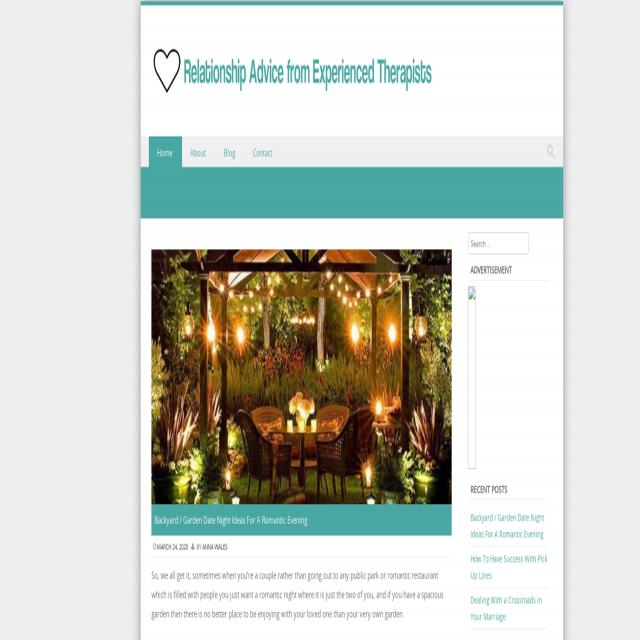button: (151, 248, 451, 503), (153, 34, 437, 106), (468, 285, 550, 468), (245, 135, 282, 166), (182, 135, 216, 166), (149, 135, 182, 166), (216, 135, 244, 166), (543, 140, 559, 162)
field: (468, 231, 528, 252)
